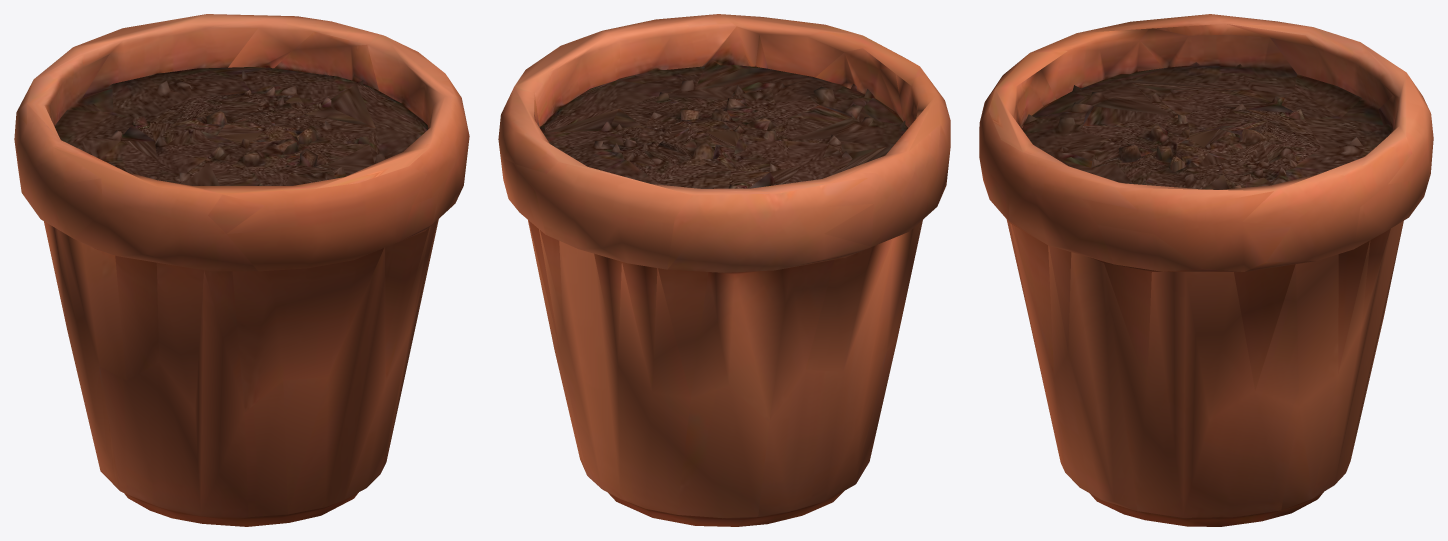
The model's file is cafe-pot-terracotta.glb.
3 views of the same model, side by side, from view 1: azimuth 30°, elevation 25°; view 2: azimuth 150°, elevation 25°; view 3: azimuth 270°, elevation 25° (orthographic).
Parts seen in each view (by area): view 1: tripo_node_4ab18b21-2ee9-49e6-be9d-47a41c06f35d; view 2: tripo_node_4ab18b21-2ee9-49e6-be9d-47a41c06f35d; view 3: tripo_node_4ab18b21-2ee9-49e6-be9d-47a41c06f35d.
Part boxes in pixels (x1,y1,x2,y2): tripo_node_4ab18b21-2ee9-49e6-be9d-47a41c06f35d: (14, 14, 469, 526); tripo_node_4ab18b21-2ee9-49e6-be9d-47a41c06f35d: (498, 14, 950, 526); tripo_node_4ab18b21-2ee9-49e6-be9d-47a41c06f35d: (979, 14, 1433, 526).
Size of the model in its own units: 0.38 by 0.34 by 0.3793.
1 material, 1 textured.
